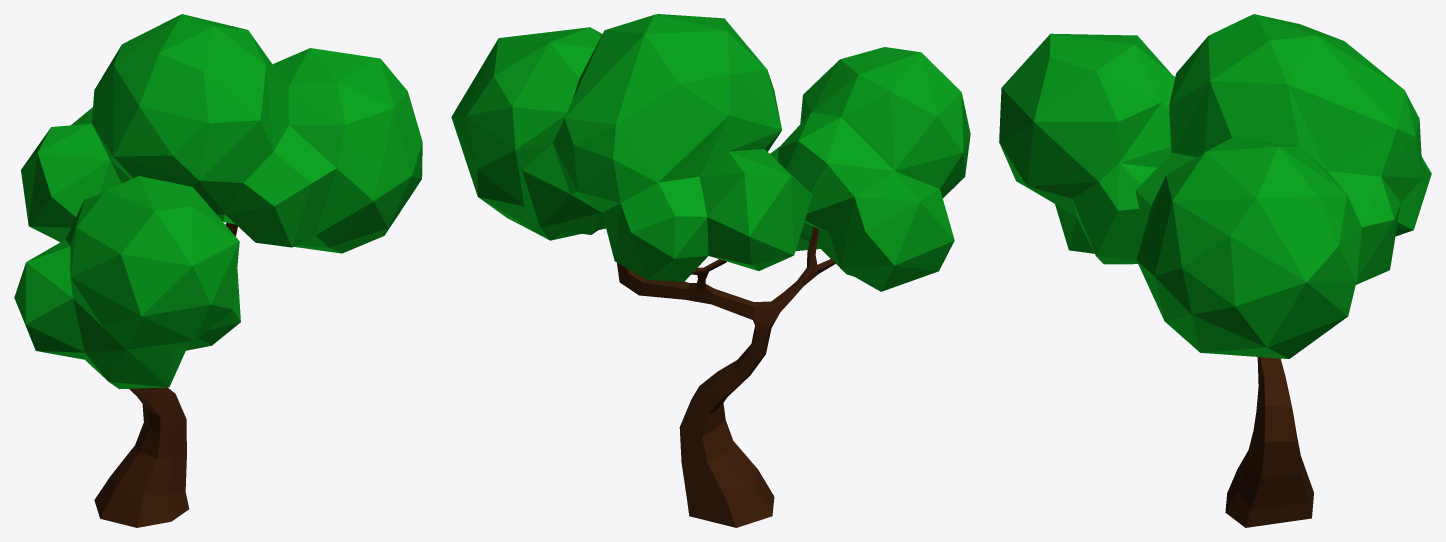
Rendered from arbre_4.FBX.
3 renders of one model, left to right at view 1: azimuth 30°, elevation 25°; view 2: azimuth 150°, elevation 25°; view 3: azimuth 270°, elevation 25°, orthographic. The views are drawn at different scales.
Visible parts, largest first — view 1: LowPoly_Tree_07; view 2: LowPoly_Tree_07; view 3: LowPoly_Tree_07.
Boxes of the visible parts, bbox=[...] form: LowPoly_Tree_07: bbox=[14, 14, 422, 527]; LowPoly_Tree_07: bbox=[451, 14, 970, 527]; LowPoly_Tree_07: bbox=[999, 14, 1431, 527].
Bounding box in the file's own units: 46.34 × 47.87 × 37.05.
